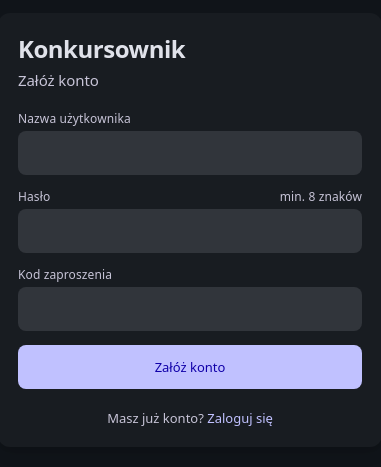
Test: RegisterPage › shows invite error message
Type "ania" into the field labelled "Nazwa użytkownika" at (190, 153), box [18,131,362,175]
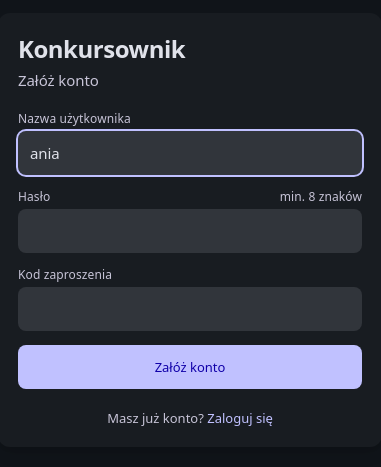
Type "haslo1234" into the password field labelled "Hasło" at (190, 231), box [18,209,362,253]
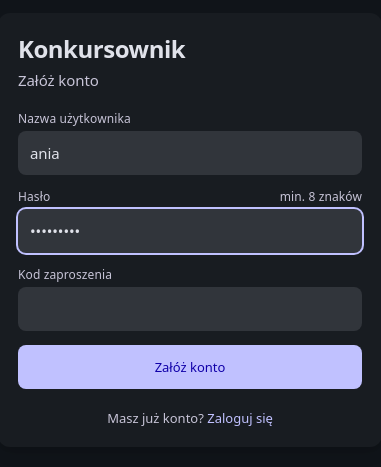
Type "ZLY" into the field labelled "Kod zaproszenia" at (190, 309), box [18,287,362,331]
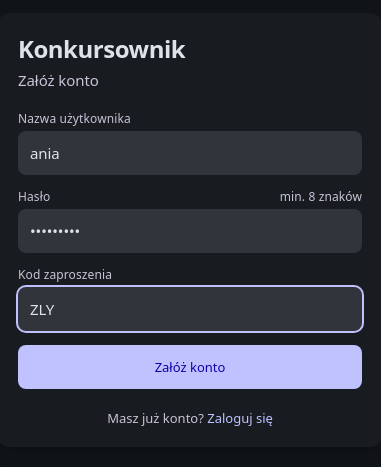
Click the button "Załóż konto" at (190, 367), box [18,345,362,389]
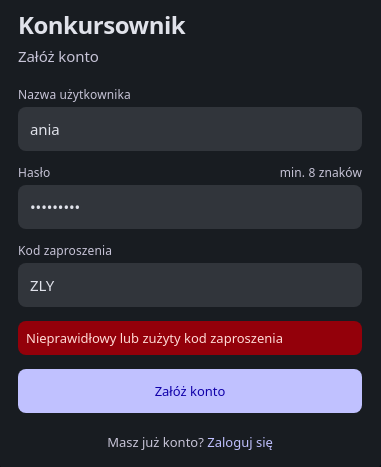
expect the text "Nieprawidłowy lub zużyty kod zaproszenia" is shown: met, box [18,321,362,355]
